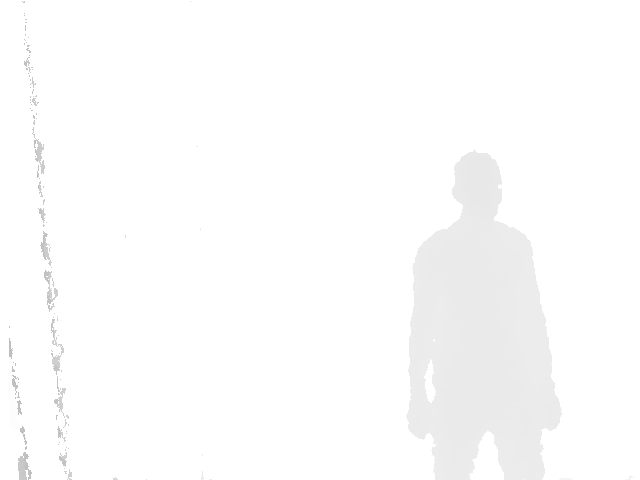head: (452, 151, 503, 221)
person: (405, 151, 563, 480)
